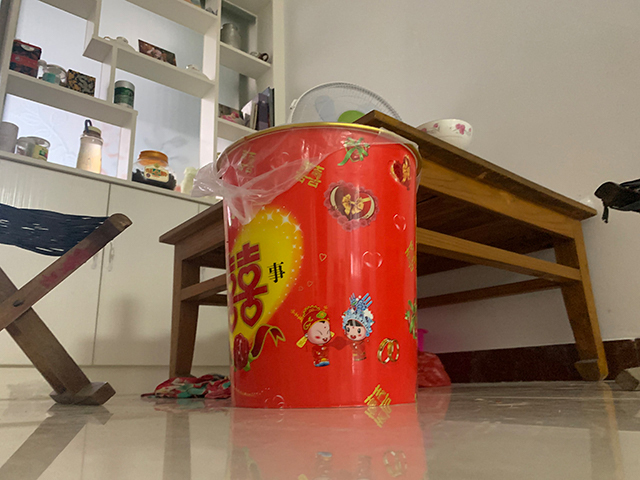cabinet: (1, 1, 276, 397)
stool: (1, 202, 133, 407)
table: (158, 109, 609, 381)
trashcan: (215, 120, 424, 408)
